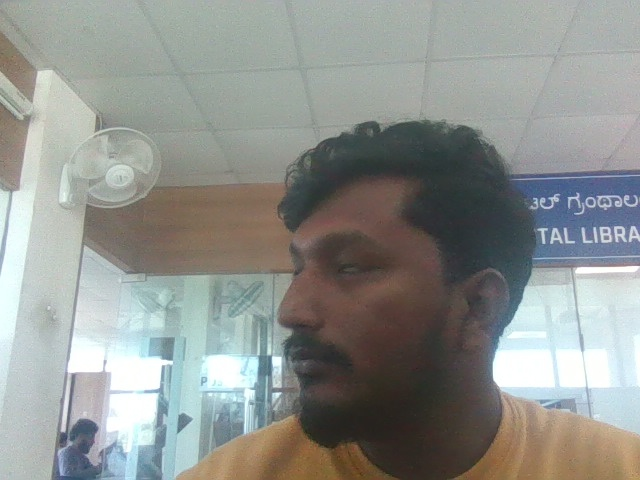real: (254, 104, 486, 433)
